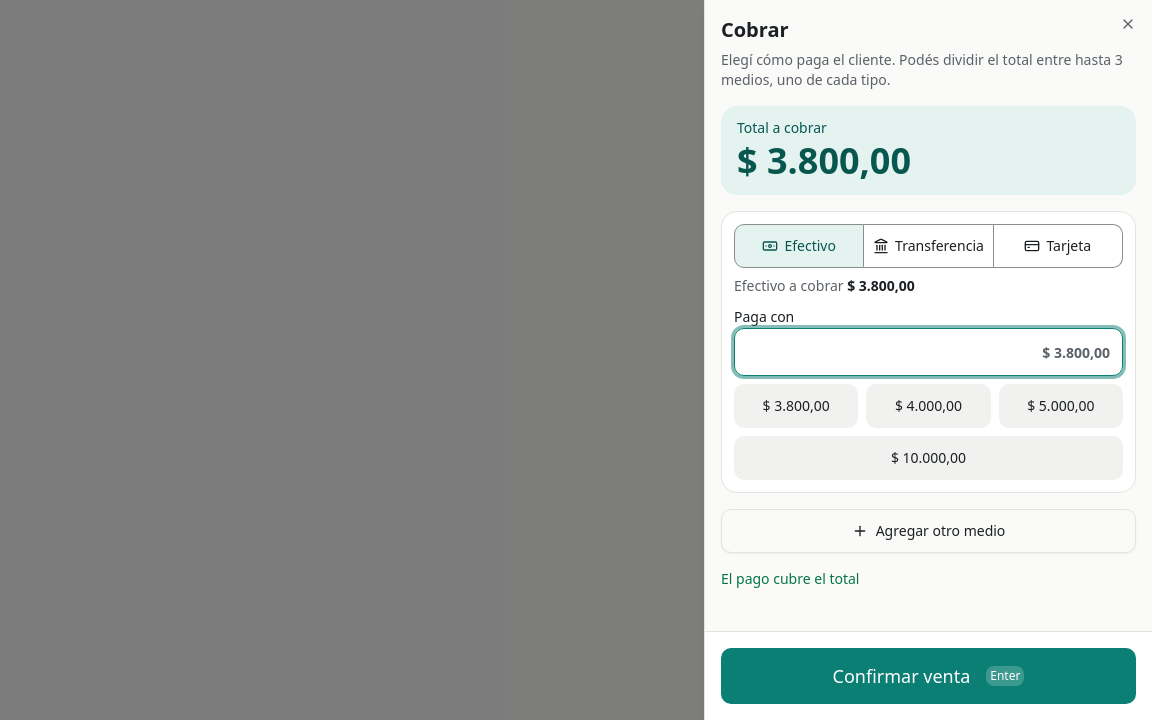
Test: CheckoutSheet: pagos › pago dividido incompleto (transferencia + tarjeta, sin efectivo) muestra 'Faltan' y deshabilita la confirmacion
Check: the field labelled "Paga con" is shown, box [734,328,1123,376]
Click the radio button labelled "Transferencia": (929, 246) [864,224,994,268]
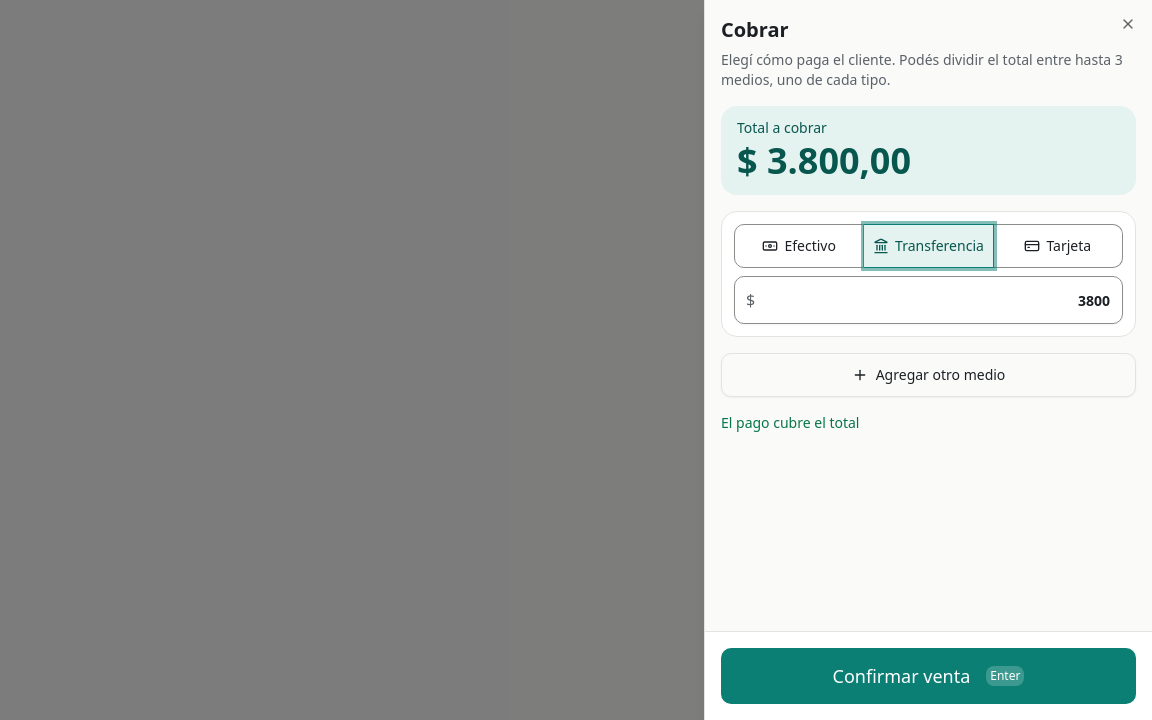
Clear the field named "monto transferencia": (928, 300) [734,276,1123,324]
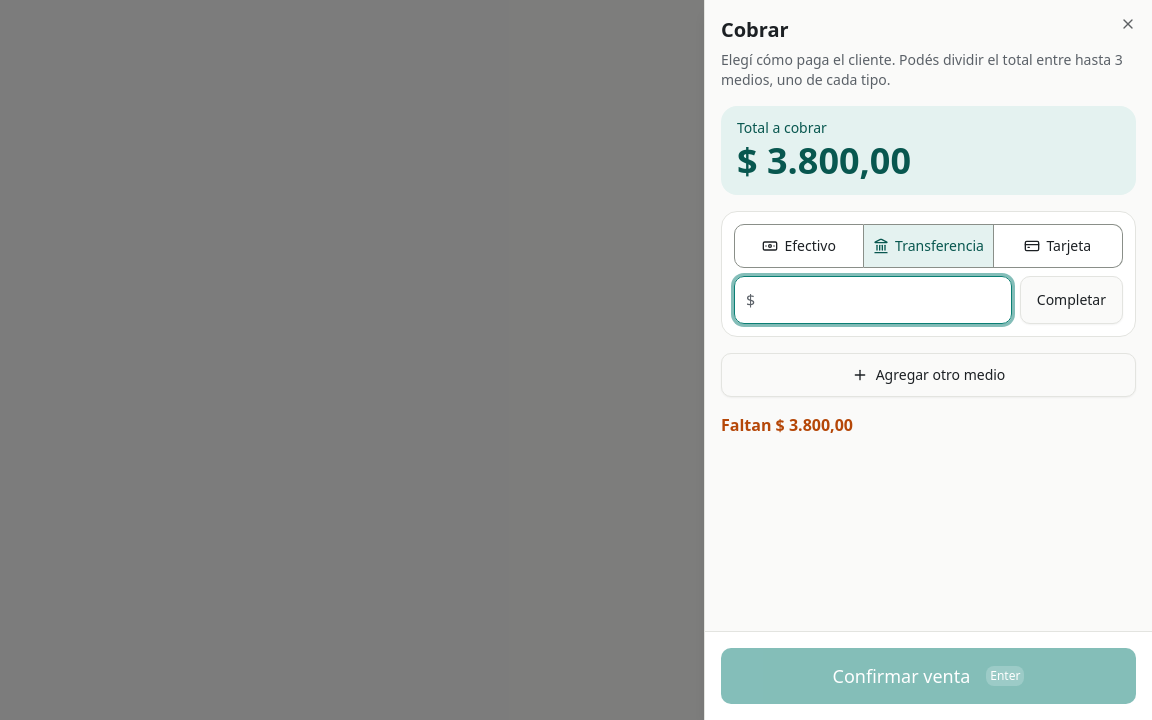
In the field named "monto transferencia": (873, 300) [734,276,1012,324], type "1800"
Click the button "Agregar otro medio": (928, 375) [721,353,1136,397]
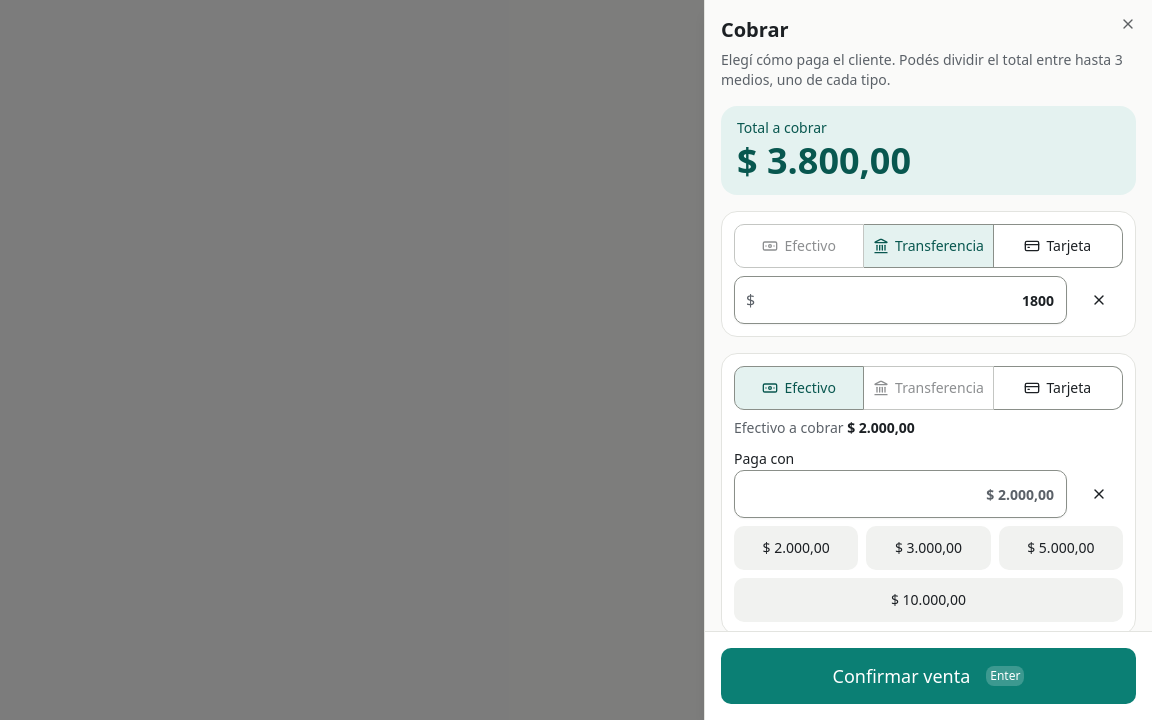
Click the 2nd radio button labelled "Tarjeta": (1058, 388) [994,366,1123,410]
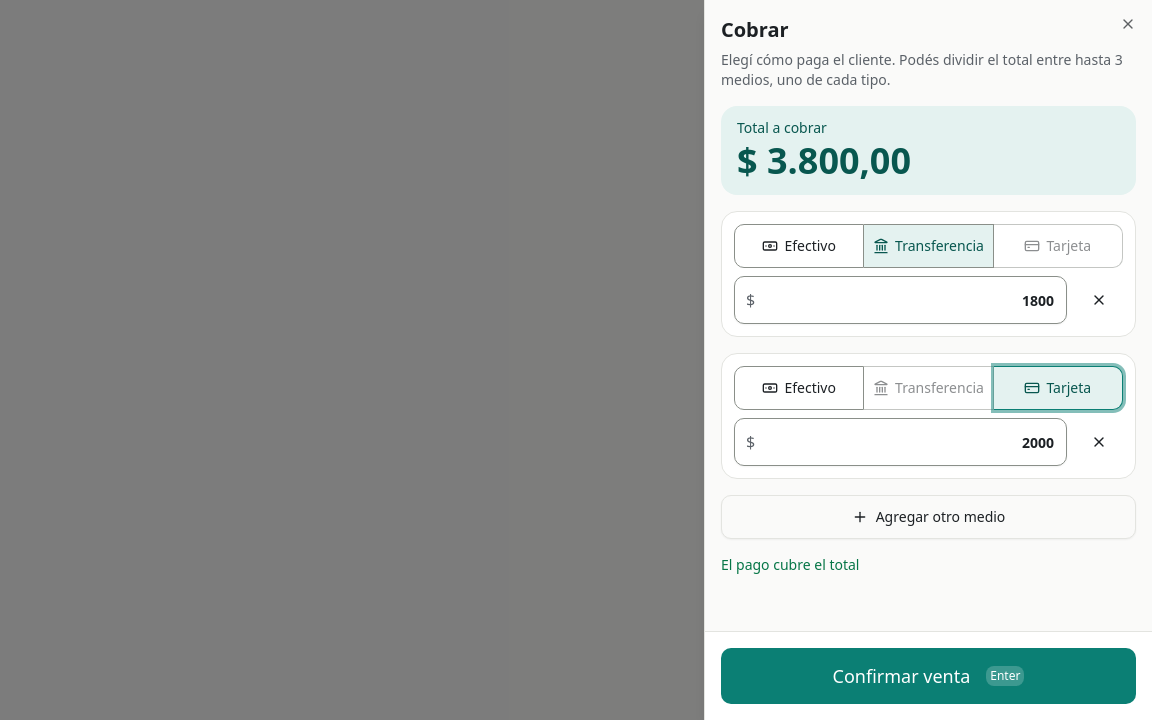
Clear the field named "monto tarjeta": (900, 442) [734,418,1067,466]
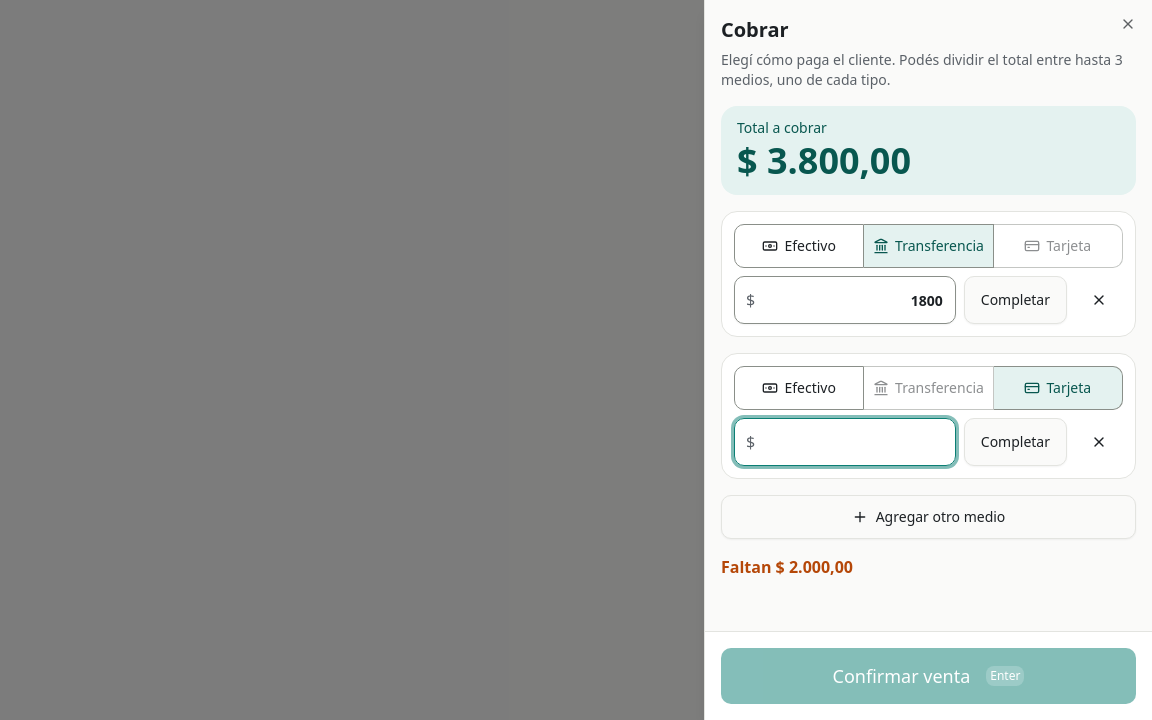
In the field named "monto tarjeta": (845, 442) [734,418,956,466], type "1500"
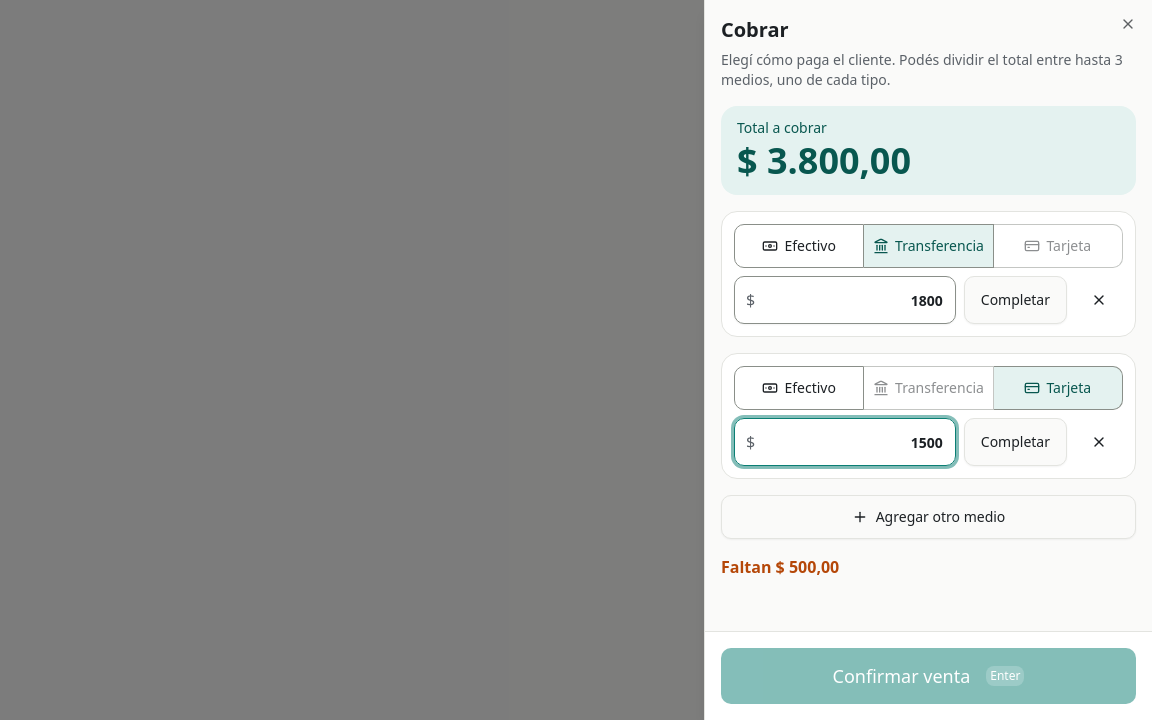
Check: the button "Confirmar venta Enter" is disabled, box [721,648,1136,704]
Check: the text "Faltan $ 500,00" is shown, box [721,556,839,578]
